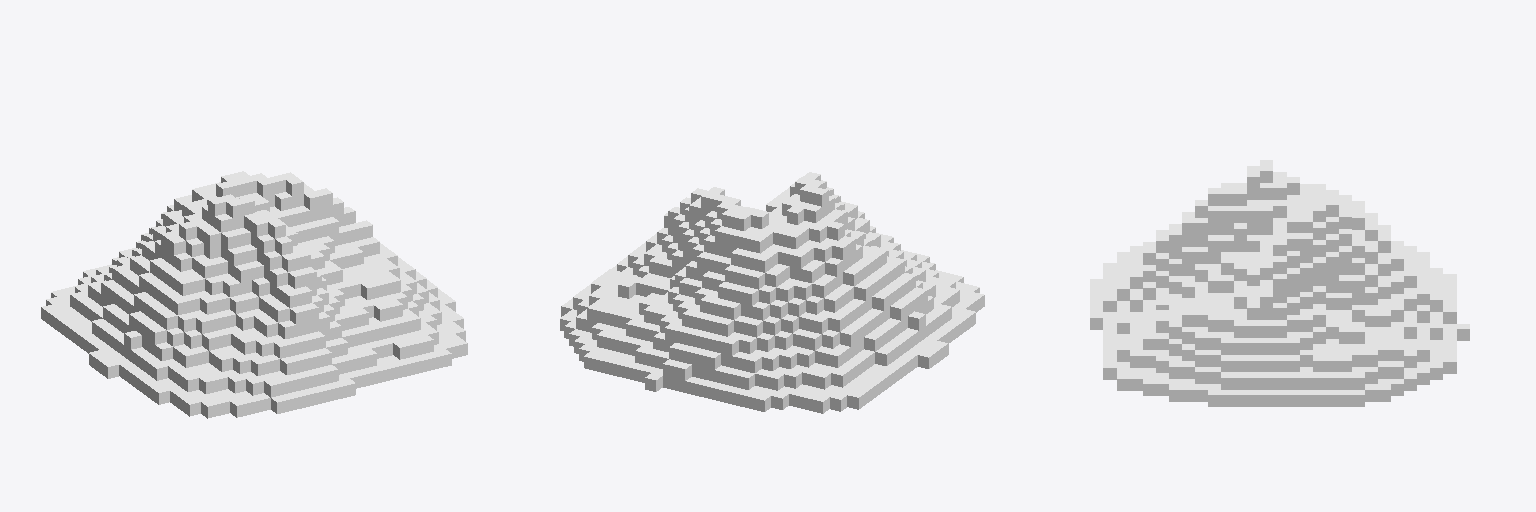
The model's file is hill02.obj.
3 renders of one model, left to right at view 1: azimuth 30°, elevation 25°; view 2: azimuth 150°, elevation 25°; view 3: azimuth 270°, elevation 25°, orthographic.
Size of the model in its own units: 29 by 12 by 29.